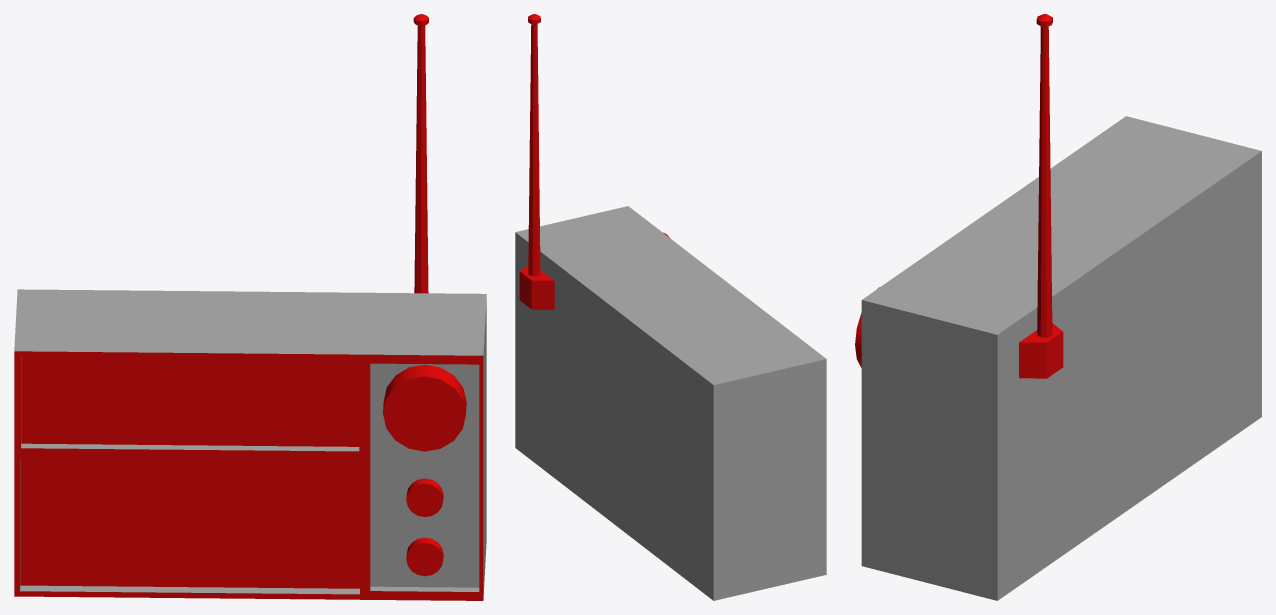
The model's file is Radio3.fbx.
3 renders of one model, left to right at view 1: azimuth 30°, elevation 25°; view 2: azimuth 150°, elevation 25°; view 3: azimuth 270°, elevation 25°, orthographic. The views are drawn at different scales.
Parts seen in each view (by area): view 1: Radio; view 2: Radio; view 3: Radio.
Boxes of the visible parts, x1,y1,x2,y2 form: Radio: [14, 14, 486, 600]; Radio: [515, 14, 826, 600]; Radio: [855, 14, 1261, 600].
Size of the model in its own units: 11.88 by 14.25 by 9.34.
